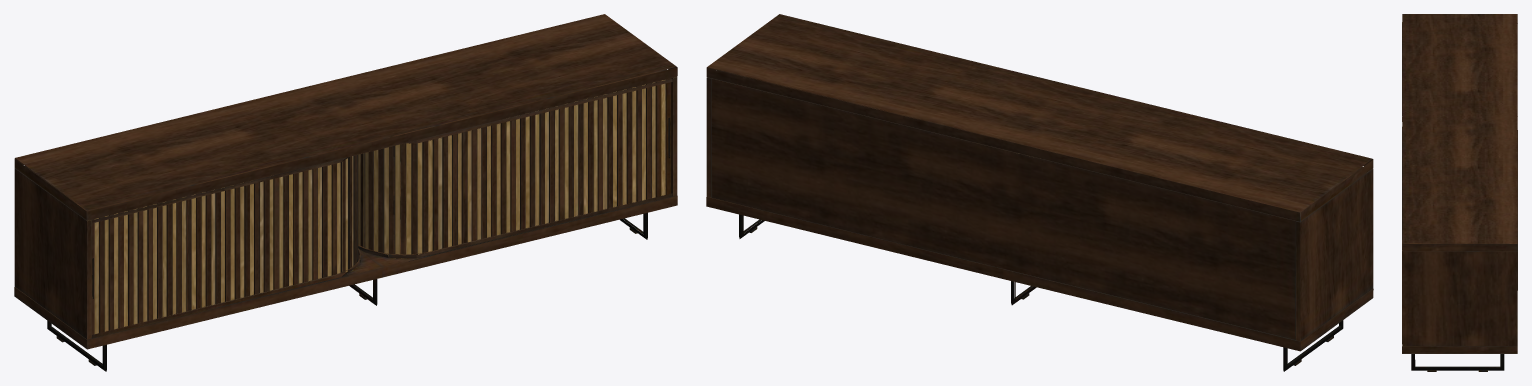
The model's file is modern_wooden_cabinet.gltf.
3 renders of one model, left to right at view 1: azimuth 30°, elevation 25°; view 2: azimuth 150°, elevation 25°; view 3: azimuth 270°, elevation 25°, orthographic. The views are drawn at different scales.
Visible parts, largest first — view 1: modern_wooden_cabinet_body, modern_wooden_cabinet_door_r, modern_wooden_cabinet_door_l; view 2: modern_wooden_cabinet_body; view 3: modern_wooden_cabinet_body.
Part boxes in pixels (x1,y1,x2,y2): modern_wooden_cabinet_body: (14, 14, 677, 371); modern_wooden_cabinet_door_r: (358, 78, 671, 255); modern_wooden_cabinet_door_l: (91, 145, 358, 337); modern_wooden_cabinet_body: (706, 14, 1373, 371); modern_wooden_cabinet_body: (1402, 14, 1517, 371).
Size of the model in its own units: 2.44 by 0.6801 by 0.5204.
1 material, 1 textured.
